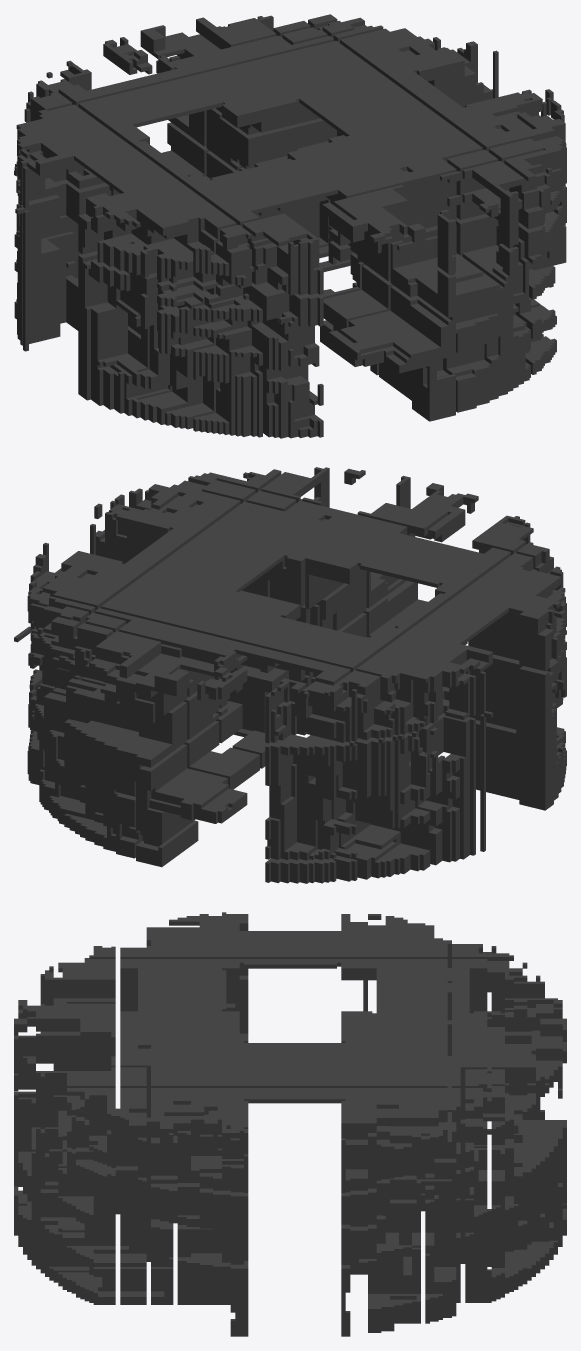
3 renders of one model, top to bottom at view 1: azimuth 30°, elevation 25°; view 2: azimuth 150°, elevation 25°; view 3: azimuth 270°, elevation 25°, orthographic. The views are drawn at different scales.
Visible parts, largest first — view 1: 金属; view 2: 金属; view 3: 金属.
Part boxes in pixels (x1,y1,x2,y2): 金属: (14,14,566,438); 金属: (14,467,566,883); 金属: (14,912,566,1336).
Size of the model in its own units: 124 by 49 by 125.
Materials: 1 (1 with a texture image).
